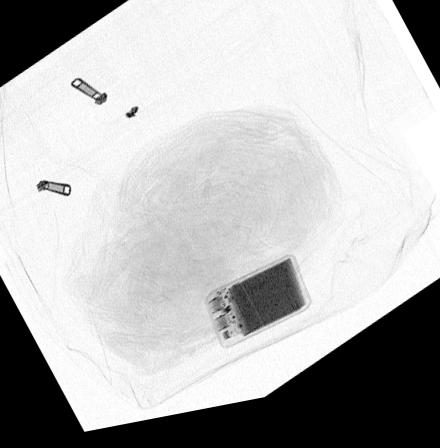Powerbank: (203, 266, 313, 358)
